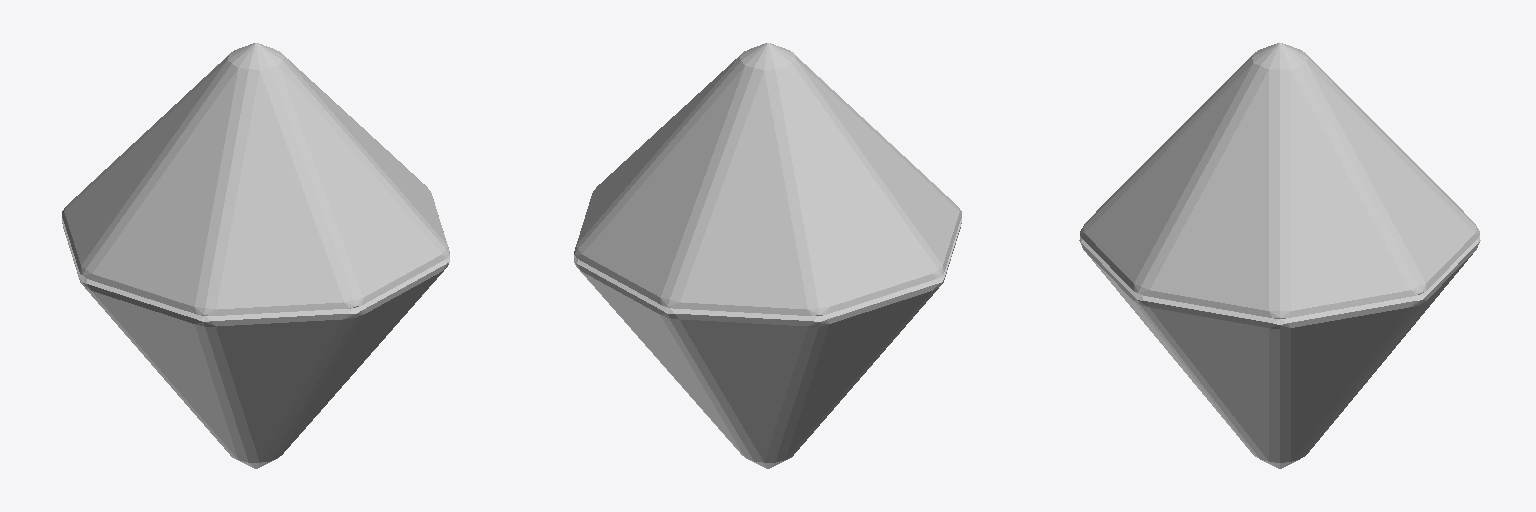
The model's file is gem_type_3.obj.
The picture shows the model from 3 angles: view 1: azimuth 30°, elevation 25°; view 2: azimuth 150°, elevation 25°; view 3: azimuth 270°, elevation 25°; orthographic projection.
Visible parts, largest first — view 1: gem_type_3; view 2: gem_type_3; view 3: gem_type_3.
Part boxes in pixels (x1,y1,x2,y2): gem_type_3: (62,43,449,468); gem_type_3: (574,43,961,468); gem_type_3: (1079,43,1480,468).
Size of the model in its own units: 0.8679 by 1.02 by 0.8679.